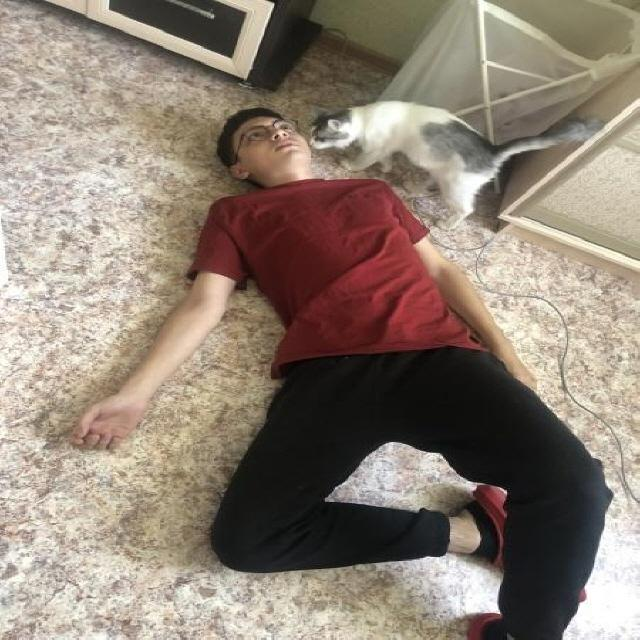Fall: (72, 107, 614, 640)
